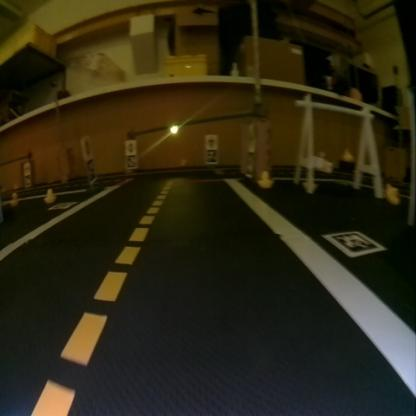Duckie: (386, 184, 400, 204), (257, 171, 271, 187), (342, 149, 354, 160), (44, 189, 54, 201), (10, 192, 17, 204)
Intersection sign: (206, 135, 216, 147)
QR code: (323, 230, 385, 256), (49, 201, 76, 209), (86, 158, 95, 180), (206, 149, 216, 162), (126, 155, 136, 167), (24, 177, 30, 186)
Traffic light: (169, 124, 179, 135)
